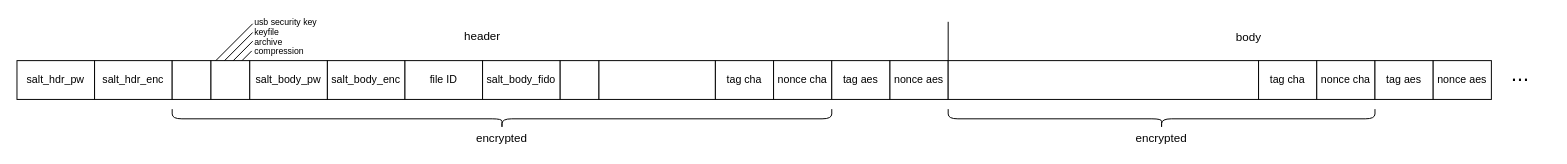
The diagram is 1567 pixels wide and 164 high, and some of its shapes have lost their labels. The shapes that lost their labels are listed below. From the top down, each one's centre as x and y in pixels, then its label:
At point (191, 79): "file format version".
At point (230, 79): "file format".
At point (579, 79): "cred ID length".
At point (656, 79): "credential ID".
At point (1103, 79): "chunk".
